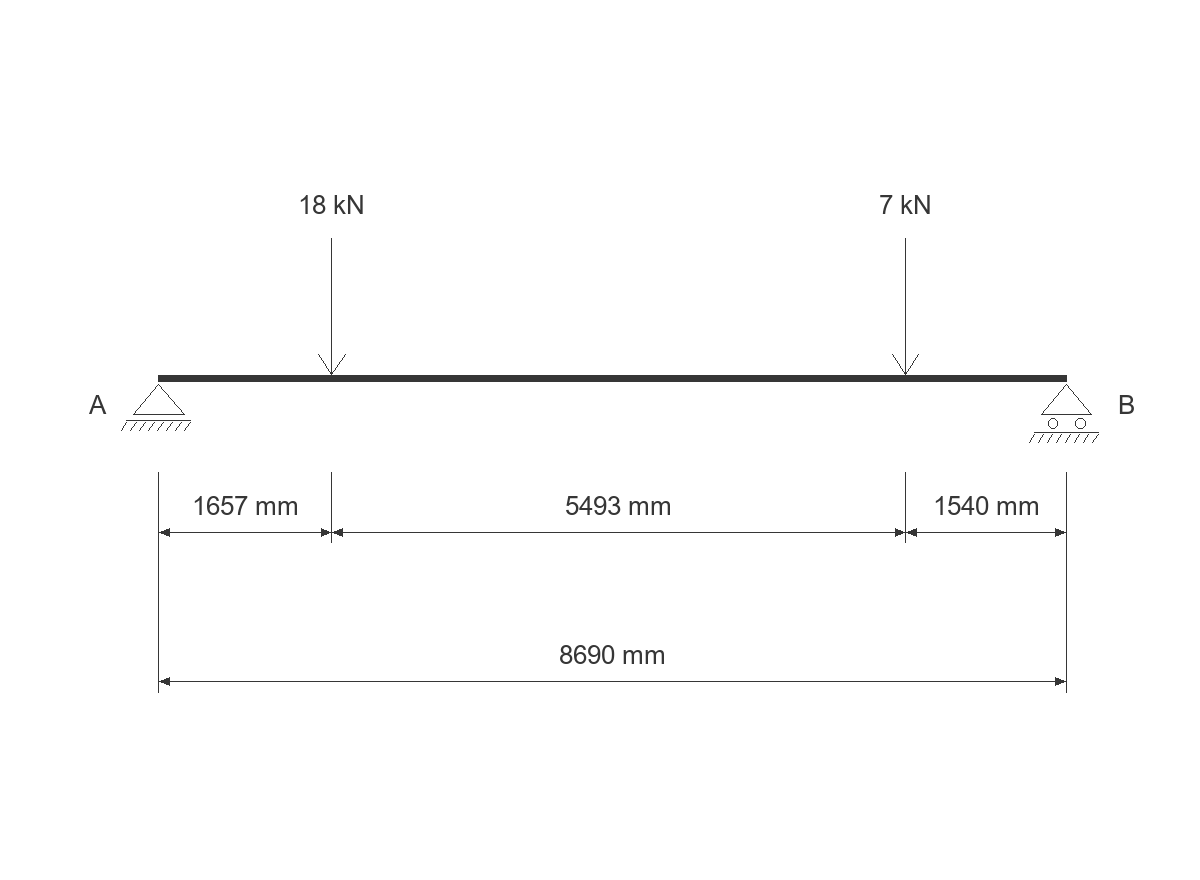pin_support: (121, 384, 191, 431)
point_load: (318, 238, 346, 375), (892, 238, 919, 375)
roller_support: (1029, 384, 1099, 443)
